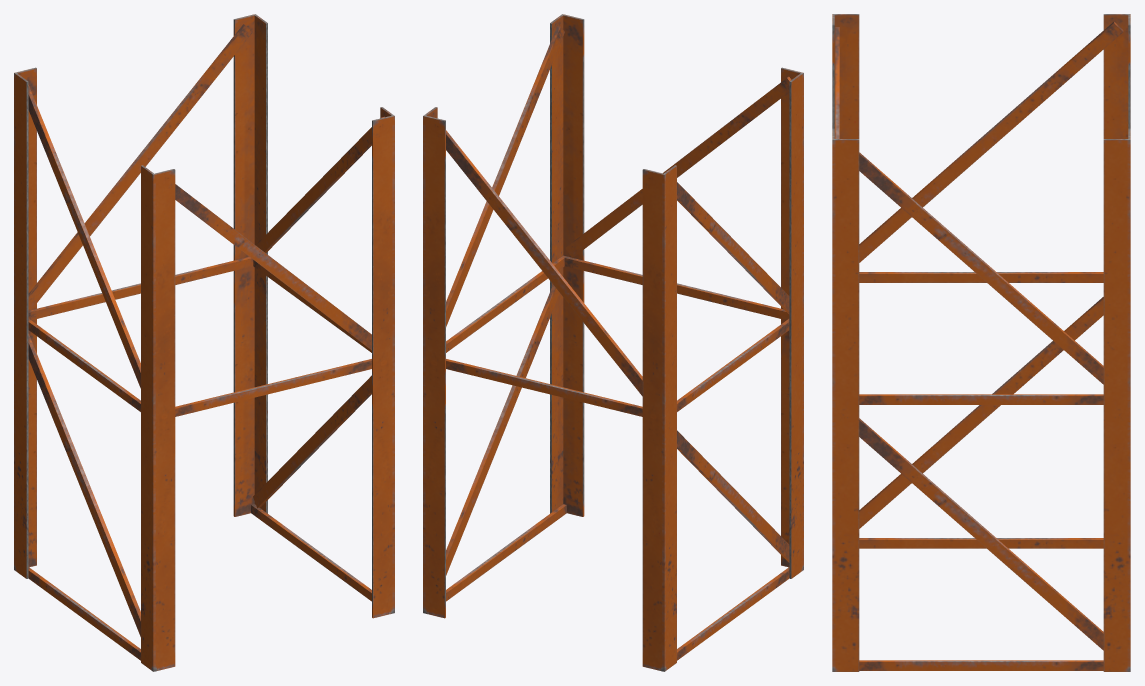
File: CraneLegSectionOpen.fbx
The picture shows the model from 3 angles, left to right: view 1: azimuth 30°, elevation 25°; view 2: azimuth 150°, elevation 25°; view 3: azimuth 270°, elevation 25°; orthographic projection. The views are drawn at different scales.
Parts seen in each view (by area): view 1: Crane_Leg_Section_Open_LOD0; view 2: Crane_Leg_Section_Open_LOD0; view 3: Crane_Leg_Section_Open_LOD0.
Boxes of the visible parts, box(x1,y1,x2,y2) form: Crane_Leg_Section_Open_LOD0: box(14, 14, 394, 671); Crane_Leg_Section_Open_LOD0: box(423, 14, 803, 671); Crane_Leg_Section_Open_LOD0: box(832, 14, 1130, 671).
Size of what is drawn, in the model's own units: 3.05 by 6 by 3.05.
